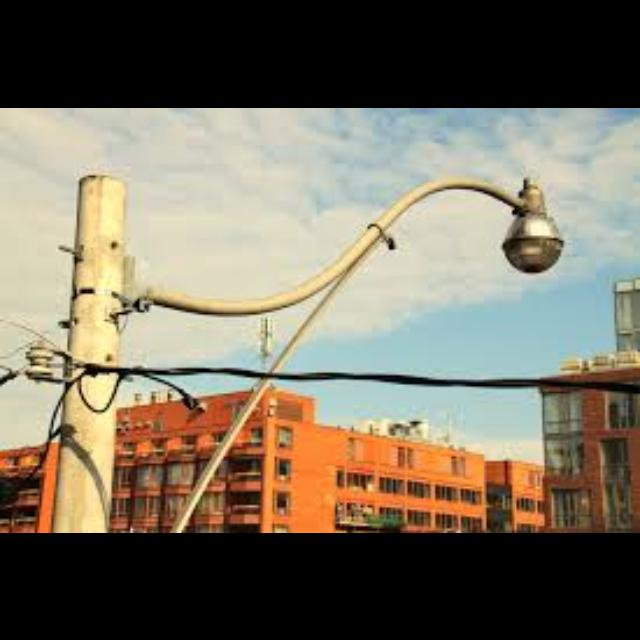Street-Lamp: (44, 128, 574, 532)
